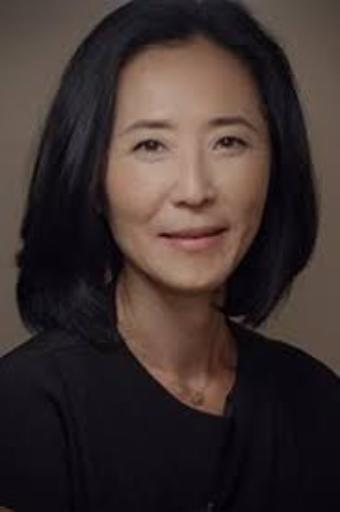left_eye: (210, 136, 250, 156)
left_lip_corner: (220, 221, 235, 240)
right_eye: (130, 139, 172, 158)
right_lip_corner: (153, 227, 170, 244)
